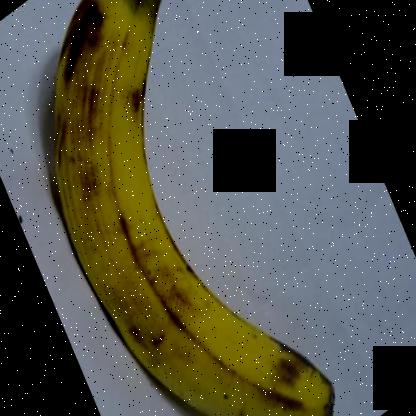ripe: (38, 0, 346, 415)
